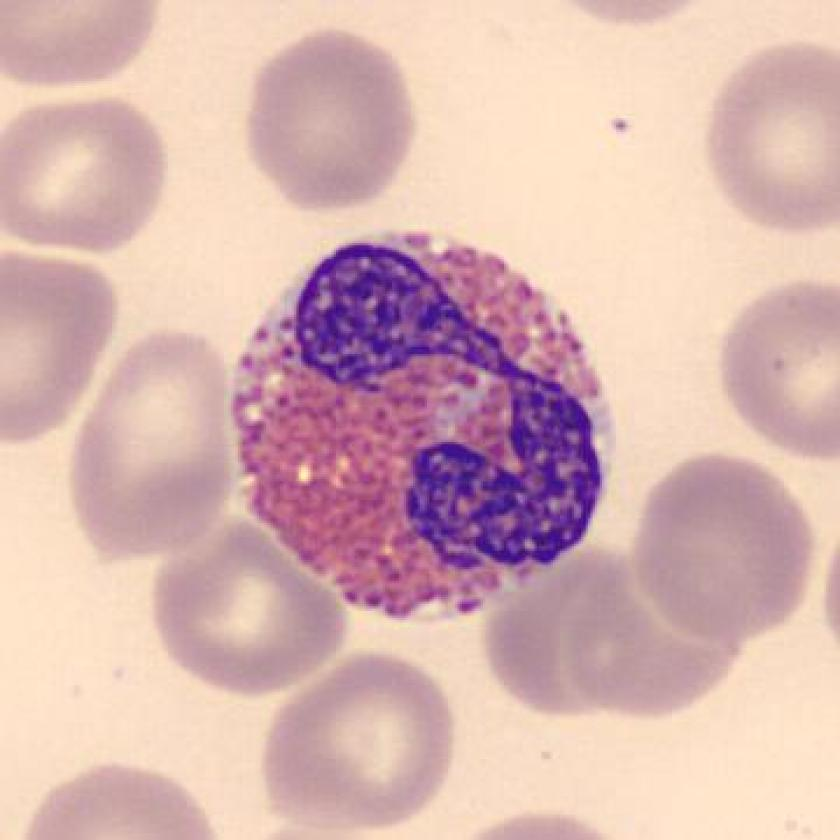eosinophil: (216, 221, 622, 633)
